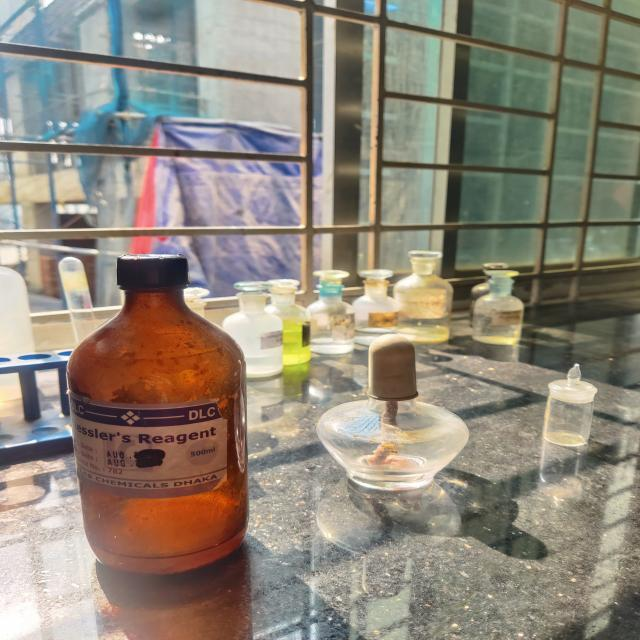Nessler_Reagent_Bottle: (43, 235, 277, 591)
Spirit_Lamp: (291, 327, 495, 518)
Weighing_Bottle: (519, 343, 618, 468)
